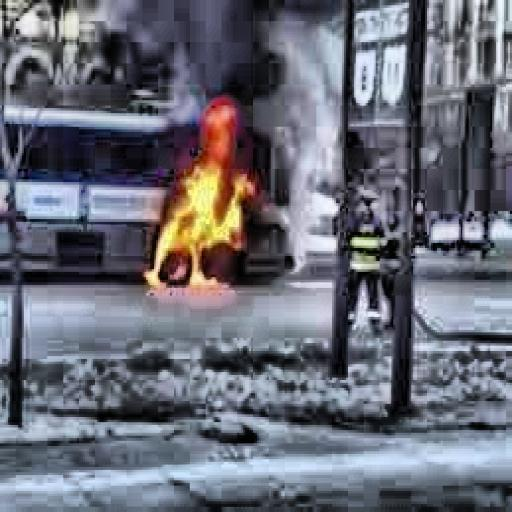fire: (138, 103, 269, 285)
